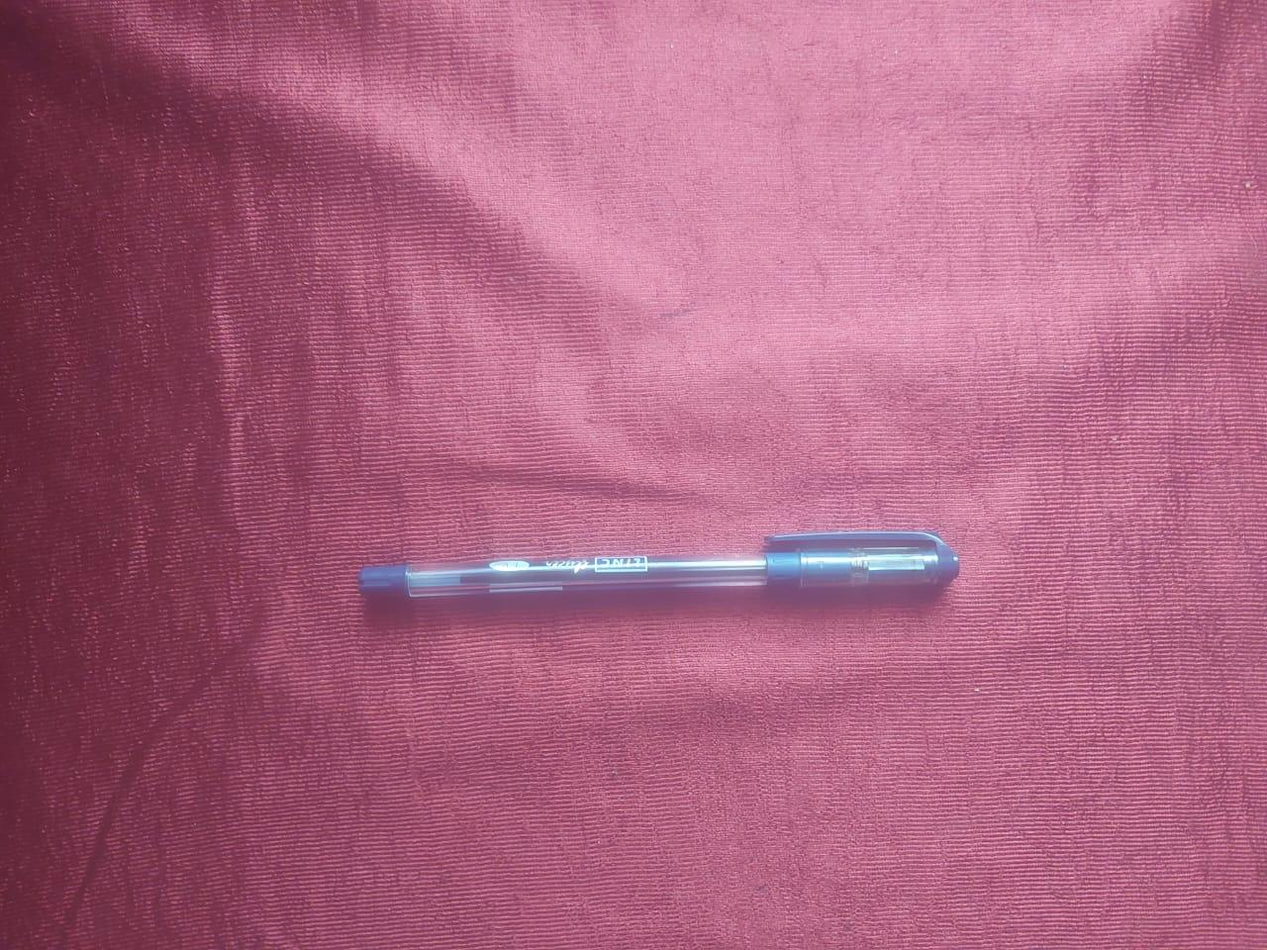pen: (344, 521, 970, 616)
